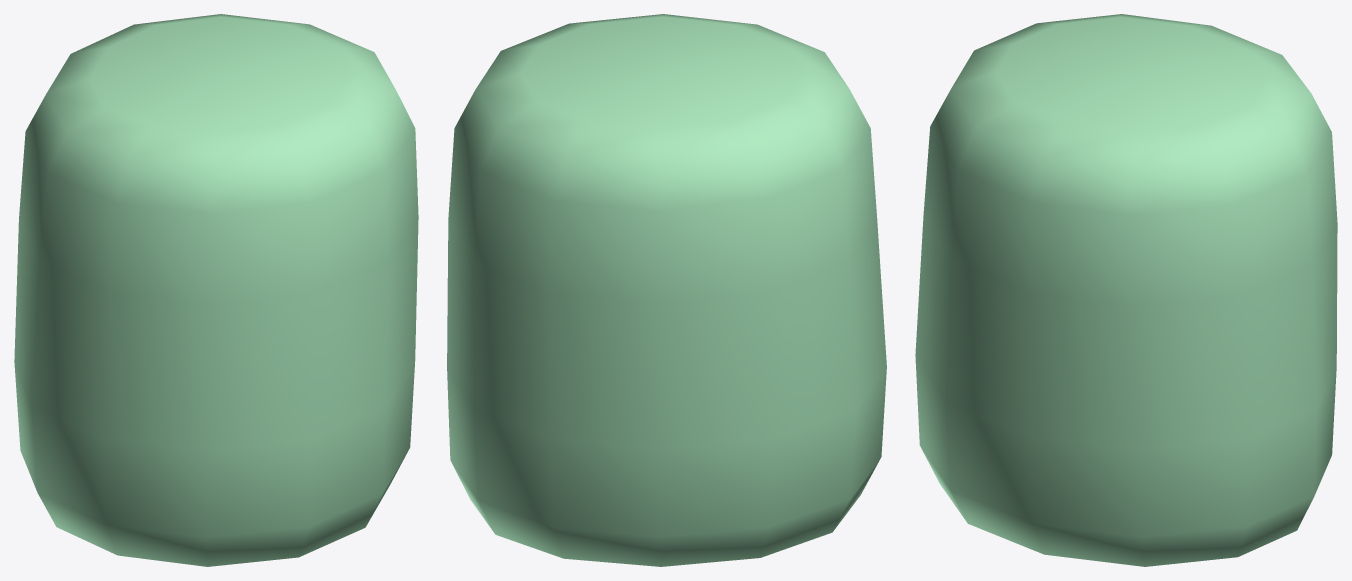
The model's file is Marshmallow_06.glb.
3 renders of one model, left to right at view 1: azimuth 30°, elevation 25°; view 2: azimuth 150°, elevation 25°; view 3: azimuth 270°, elevation 25°, orthographic. The views are drawn at different scales.
Visible parts, largest first — view 1: Marshmallow_06; view 2: Marshmallow_06; view 3: Marshmallow_06.
Part boxes in pixels (<box>): Marshmallow_06: <box>14,14,418,566</box>; Marshmallow_06: <box>447,14,886,566</box>; Marshmallow_06: <box>915,14,1337,566</box>.
Size of the model in its own units: 1.1 by 1.22 by 1.08.
Materials: 1 (1 with a texture image).
